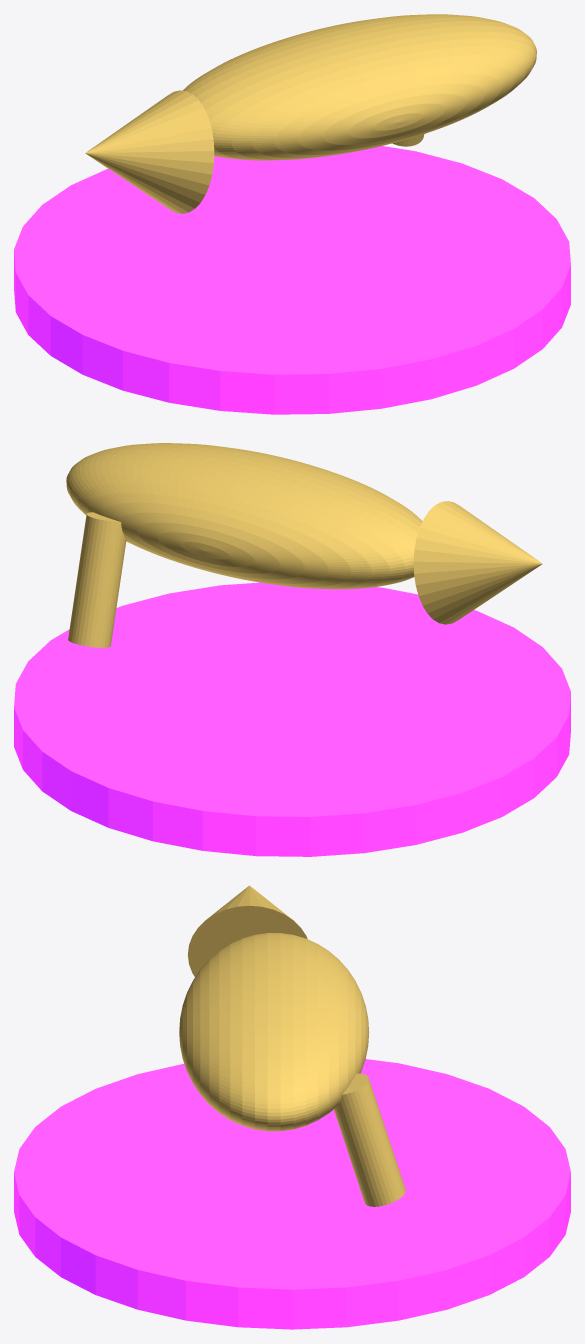
File: modelling_high_heel.glb
3 renders of one model, top to bottom at view 1: azimuth 30°, elevation 25°; view 2: azimuth 150°, elevation 25°; view 3: azimuth 270°, elevation 25°, orthographic.
Visible parts, largest first — view 1: 05_09_Popular_Modelling_High_Heel_ROOT_base, 05_09_Popular_Modelling_High_Heel_part_01, 05_09_Popular_Modelling_High_Heel_part_03; view 2: 05_09_Popular_Modelling_High_Heel_ROOT_base, 05_09_Popular_Modelling_High_Heel_part_01, 05_09_Popular_Modelling_High_Heel_part_03, 05_09_Popular_Modelling_High_Heel_part_02; view 3: 05_09_Popular_Modelling_High_Heel_ROOT_base, 05_09_Popular_Modelling_High_Heel_part_01, 05_09_Popular_Modelling_High_Heel_part_02, 05_09_Popular_Modelling_High_Heel_part_03.
Boxes of the visible parts, x1,y1,x2,y2 form: 05_09_Popular_Modelling_High_Heel_ROOT_base: (14,146,570,414); 05_09_Popular_Modelling_High_Heel_part_01: (183,14,536,160); 05_09_Popular_Modelling_High_Heel_part_03: (85,90,214,213); 05_09_Popular_Modelling_High_Heel_ROOT_base: (14,582,570,856); 05_09_Popular_Modelling_High_Heel_part_01: (66,443,422,589); 05_09_Popular_Modelling_High_Heel_part_03: (413,501,542,624); 05_09_Popular_Modelling_High_Heel_part_02: (68,512,126,647); 05_09_Popular_Modelling_High_Heel_ROOT_base: (14,1059,570,1329); 05_09_Popular_Modelling_High_Heel_part_01: (179,933,369,1131); 05_09_Popular_Modelling_High_Heel_part_02: (334,1073,405,1206); 05_09_Popular_Modelling_High_Heel_part_03: (187,885,307,976).
Size of the model in its own units: 0.76 by 0.3774 by 0.76.
